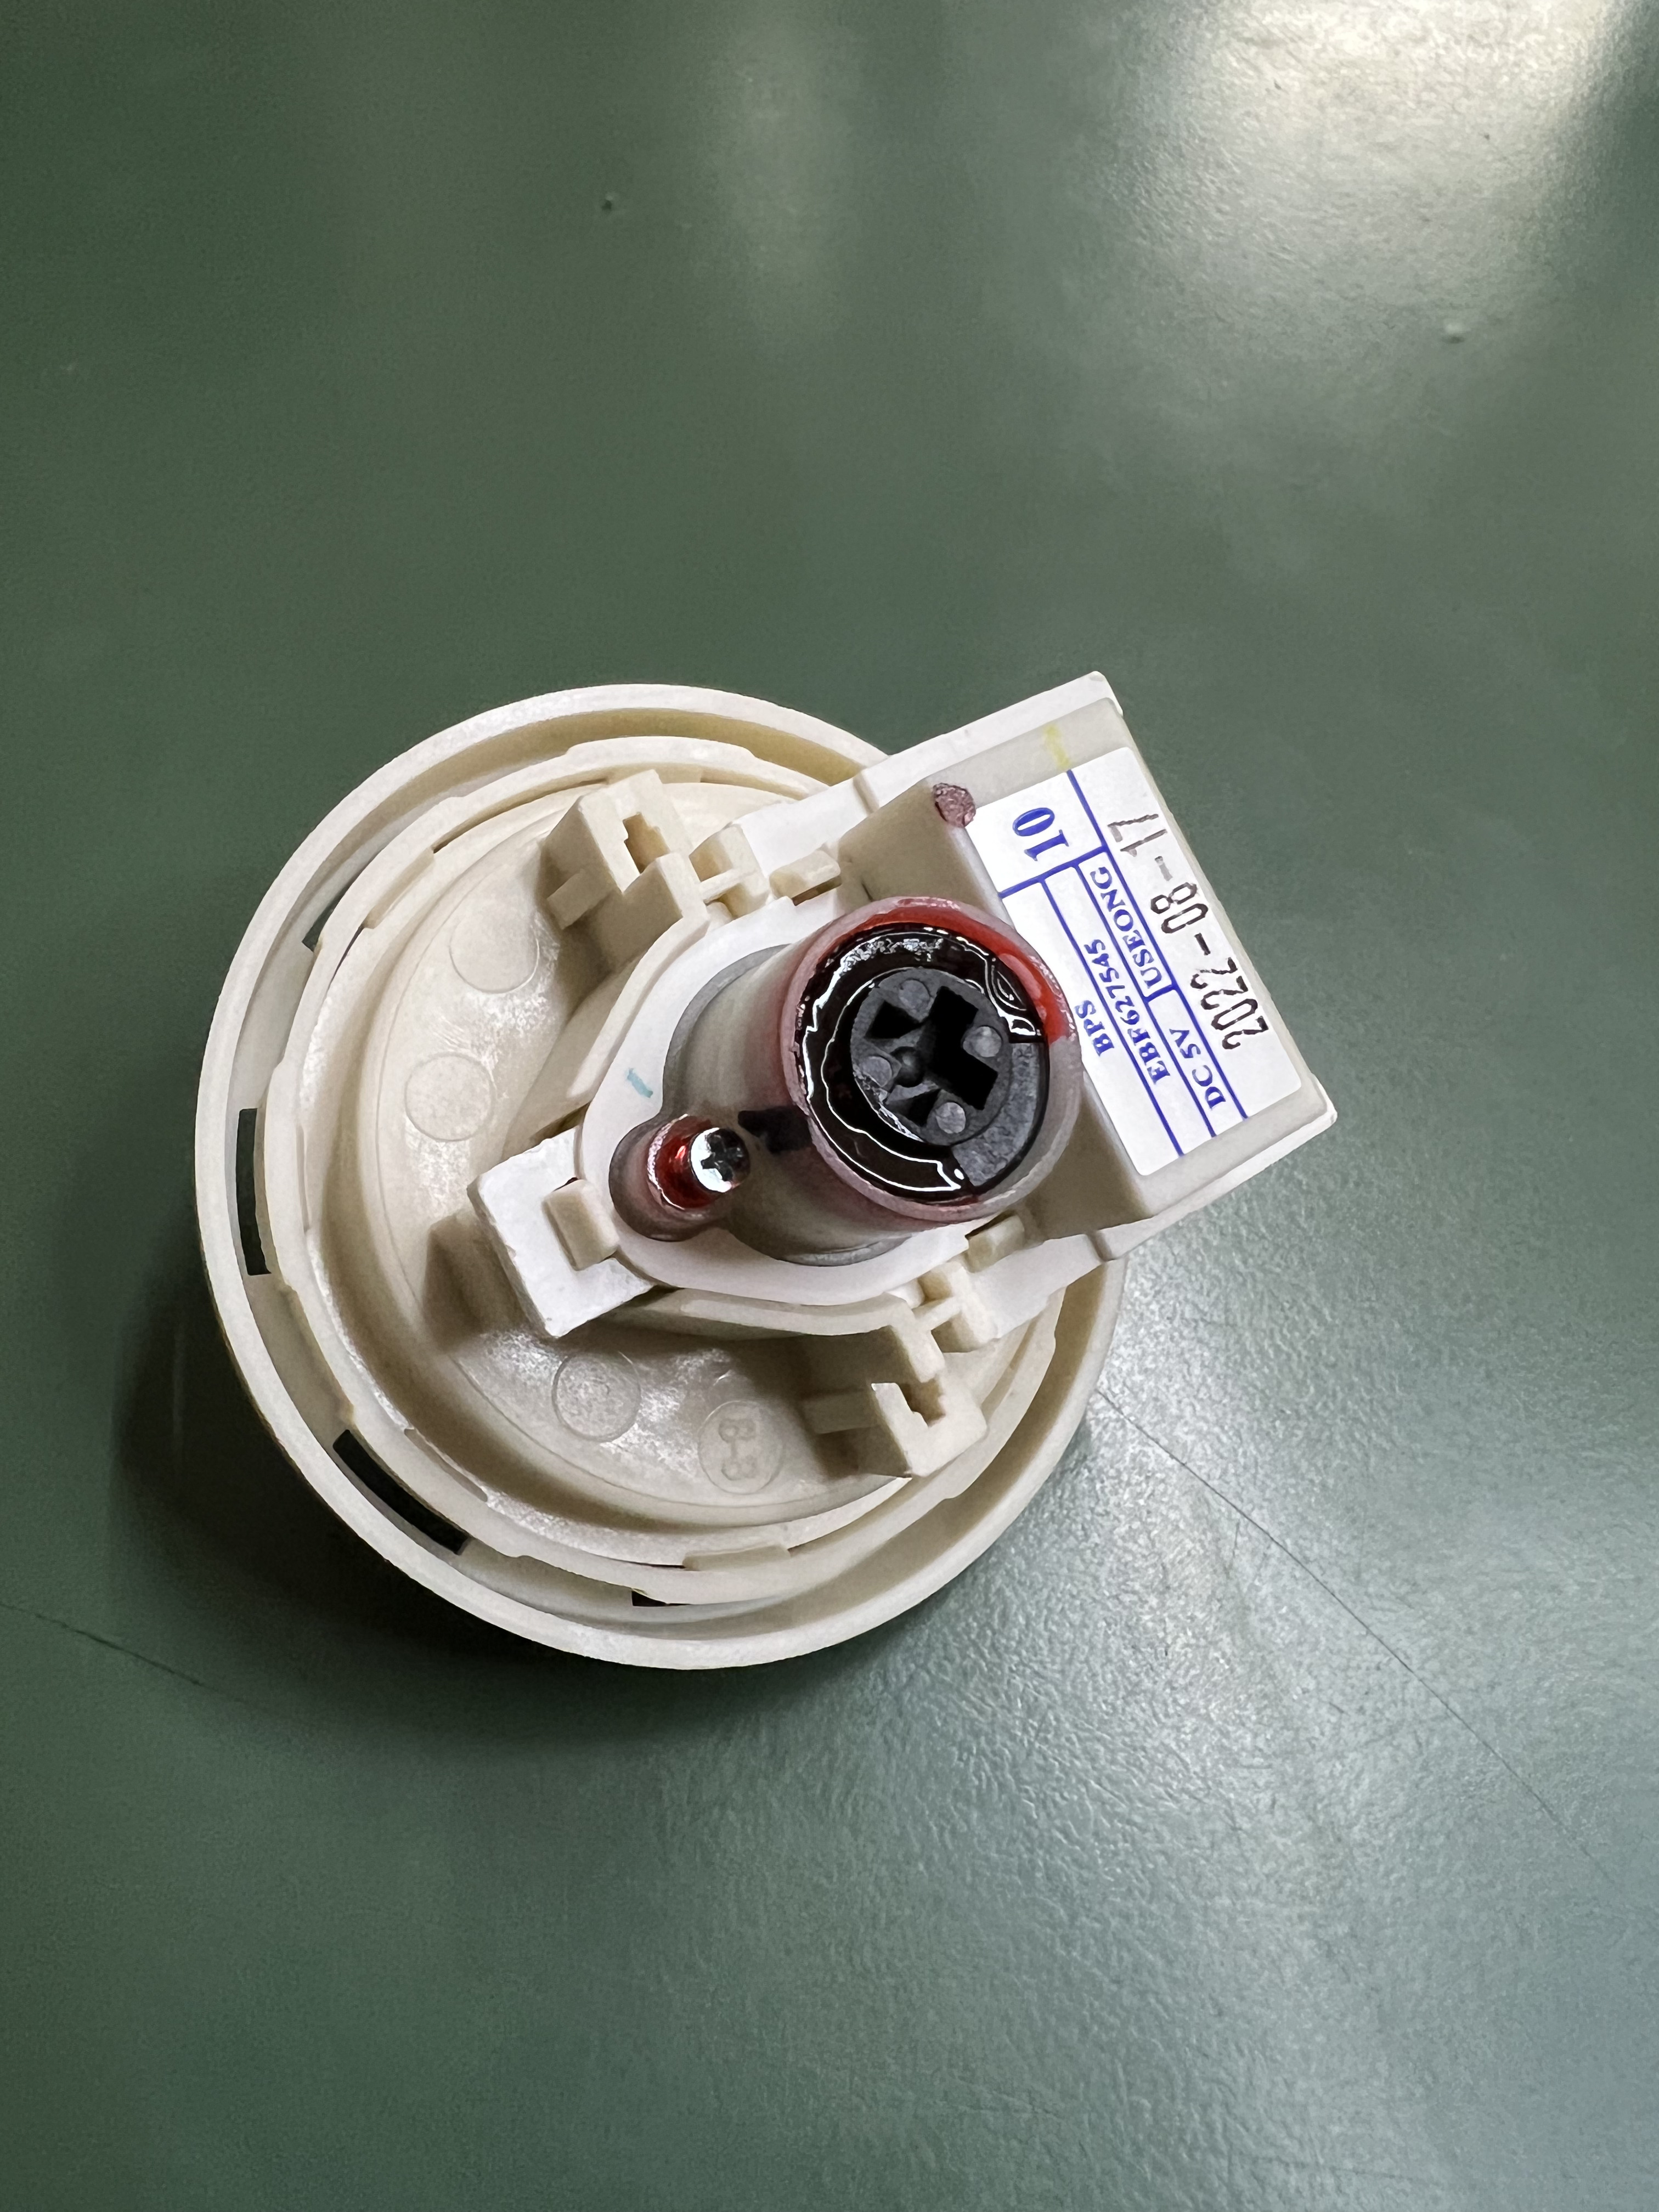pressure_sensor: (188, 664, 1347, 1721)
